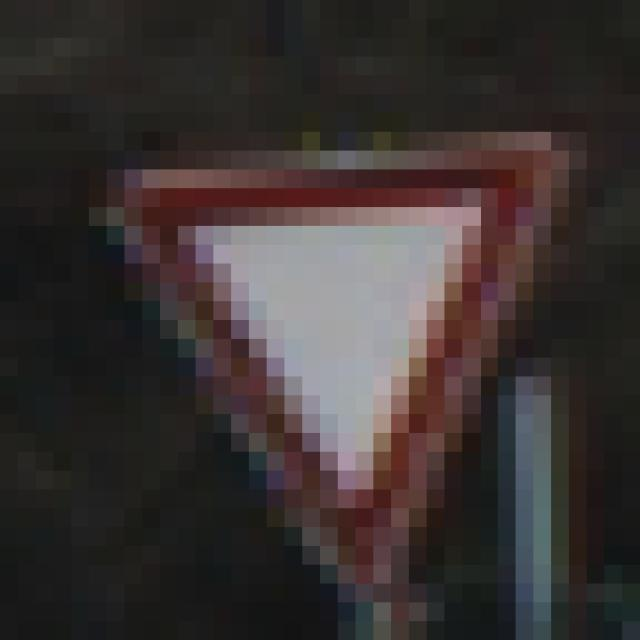Give Way: (108, 114, 552, 547)
